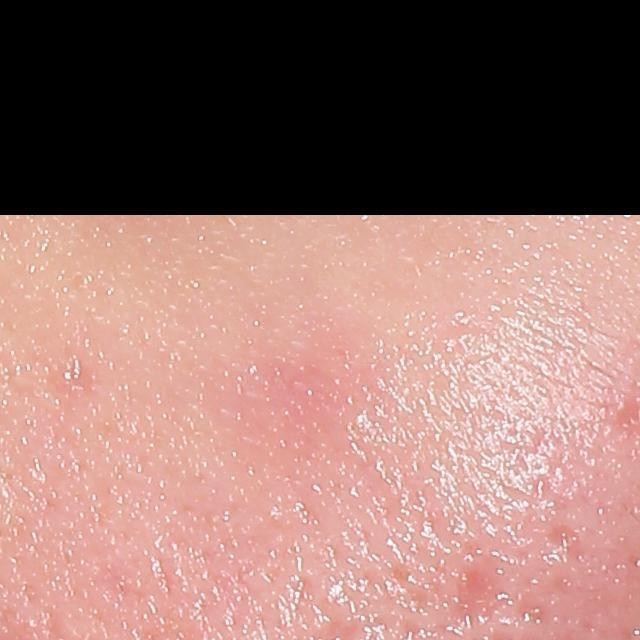atrophic_scar: (450, 557, 502, 635), (551, 519, 593, 579)
